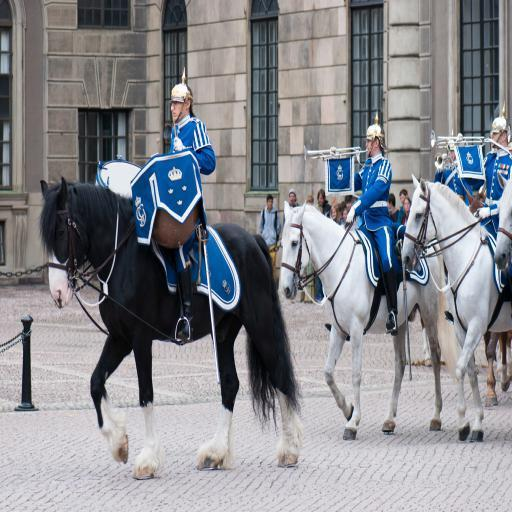horse: (35, 176, 305, 480), (279, 198, 462, 442), (400, 170, 512, 444), (492, 172, 512, 274)
